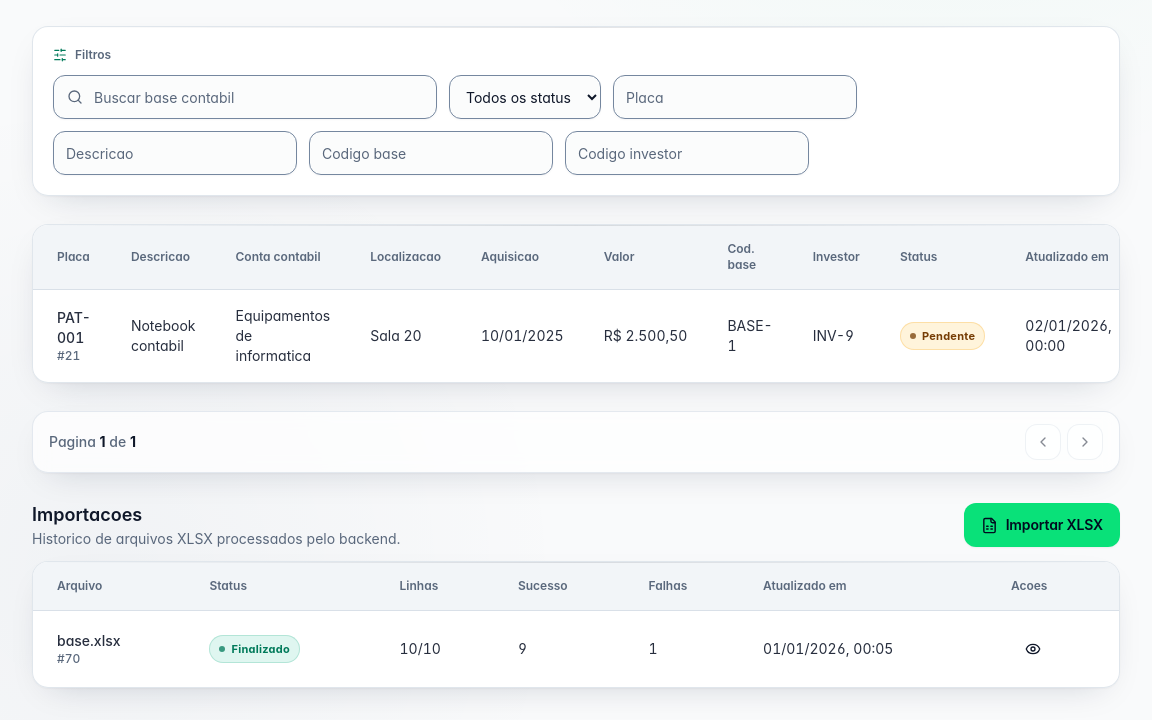
Test: ProjectAccountingItemsPage › renderiza historico e erros de importacao
The width and height of the screenshot is (1152, 720).
(page scrolled)
Check: the text "base.xlsx" is shown, box [57,632,120,649]
What coordinates should you click on to do the following:
click the button named "Visualizar erros da importacao"
I would click on:
 (1033, 649)
Its box is [1011,627,1055,671].
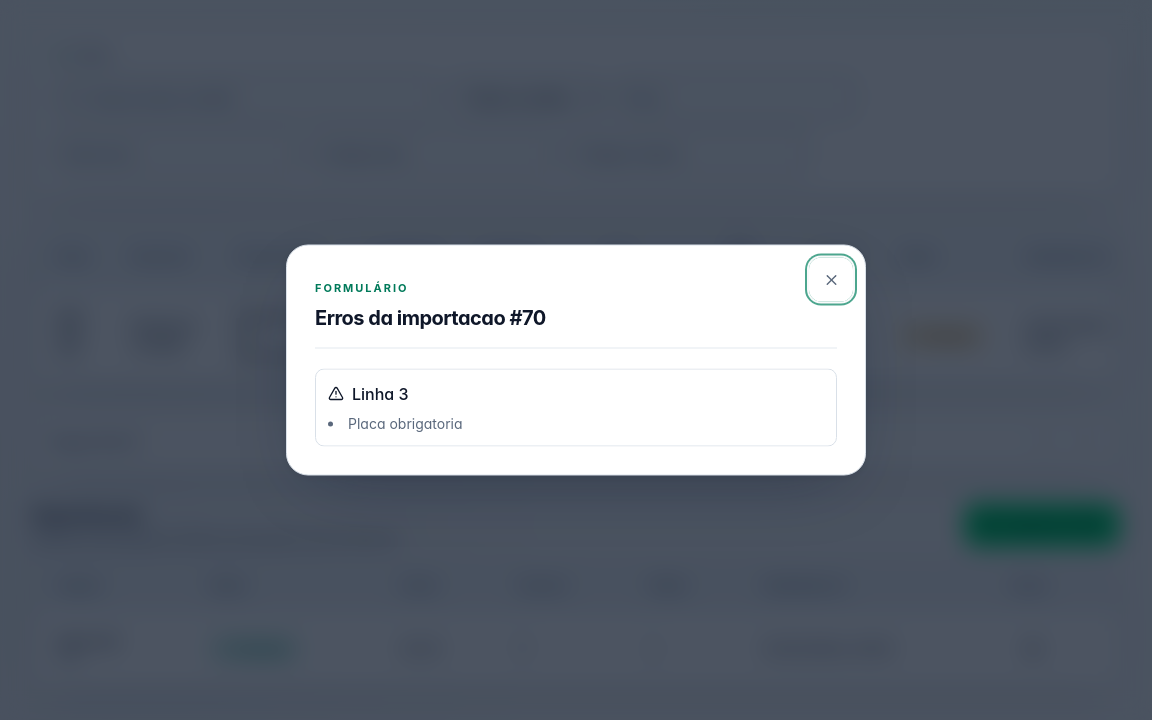
Check: the text "Linha 3" is shown, box [328,384,408,404]
Check: the list item "Placa obrigatoria" is shown, box [348,414,462,432]
